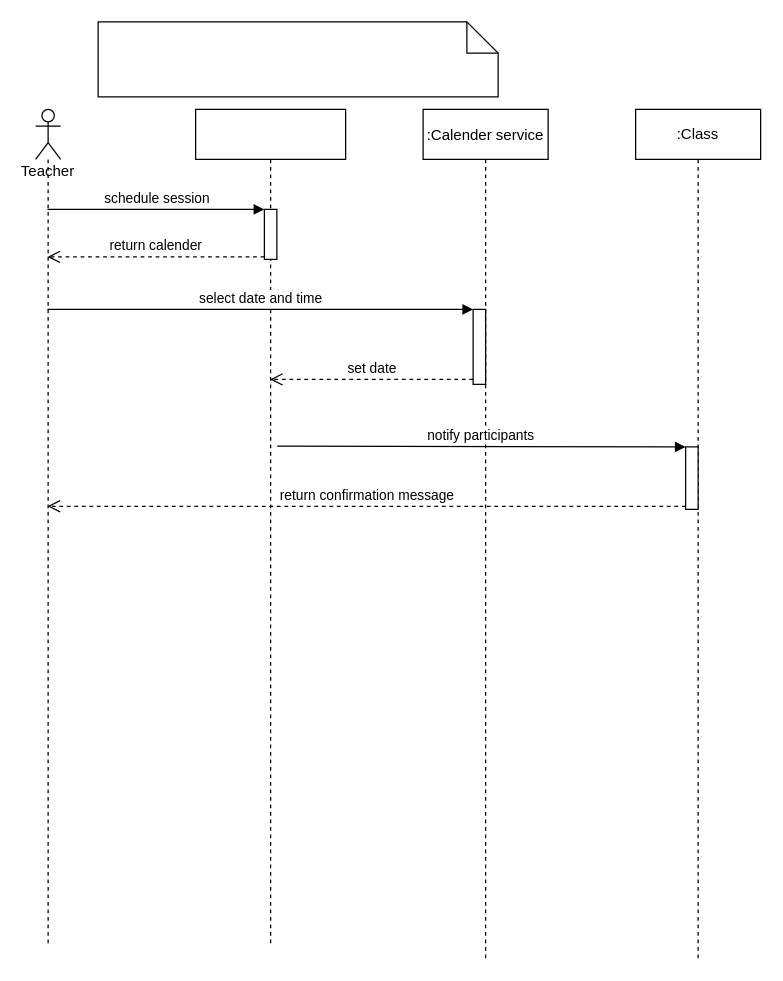
Image size: 783x981. Some labels were removed from this diagram. Here are the shapes that lost their labels. From the top down, the box of each, then its label:
(97, 21, 498, 97): Schedule Live session by teacher Sequence diagram
(194, 108, 346, 947): :E-learning platform
